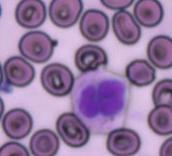N: (71, 67, 130, 132)
